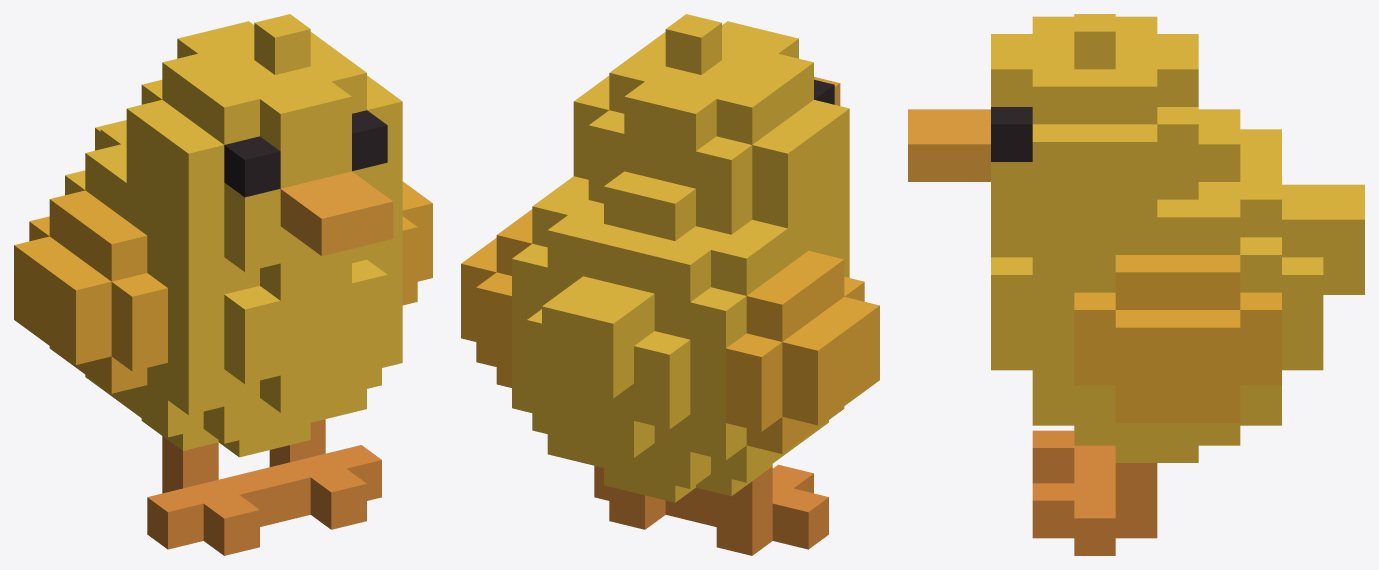
Rendered from chick.obj.
3 views of the same model, side by side, from view 1: azimuth 30°, elevation 25°; view 2: azimuth 150°, elevation 25°; view 3: azimuth 270°, elevation 25° (orthographic).
Visible parts, largest first — view 1: chick; view 2: chick; view 3: chick.
Boxes of the visible parts, x1,y1,x2,y2 form: chick: (14, 14, 432, 555); chick: (461, 14, 879, 555); chick: (908, 14, 1364, 555).
Bounding box in the file's own units: 1 × 1.3 × 1.1.
Materials: 1 (1 with a texture image).
